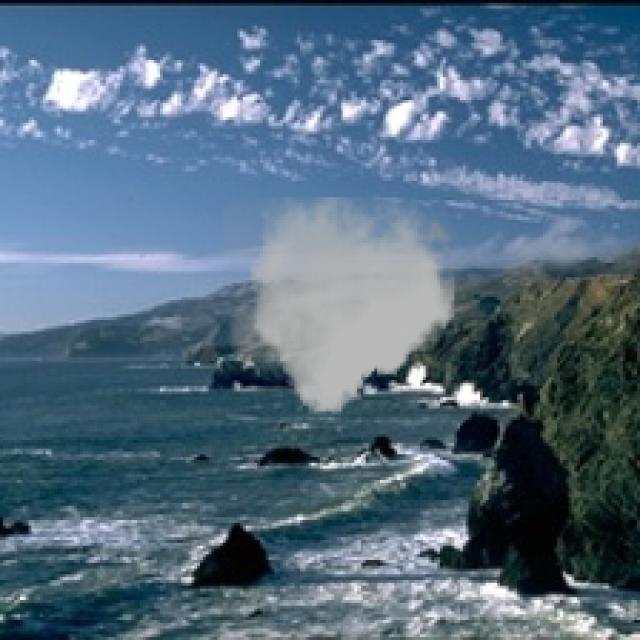smoke: (223, 197, 460, 414)
